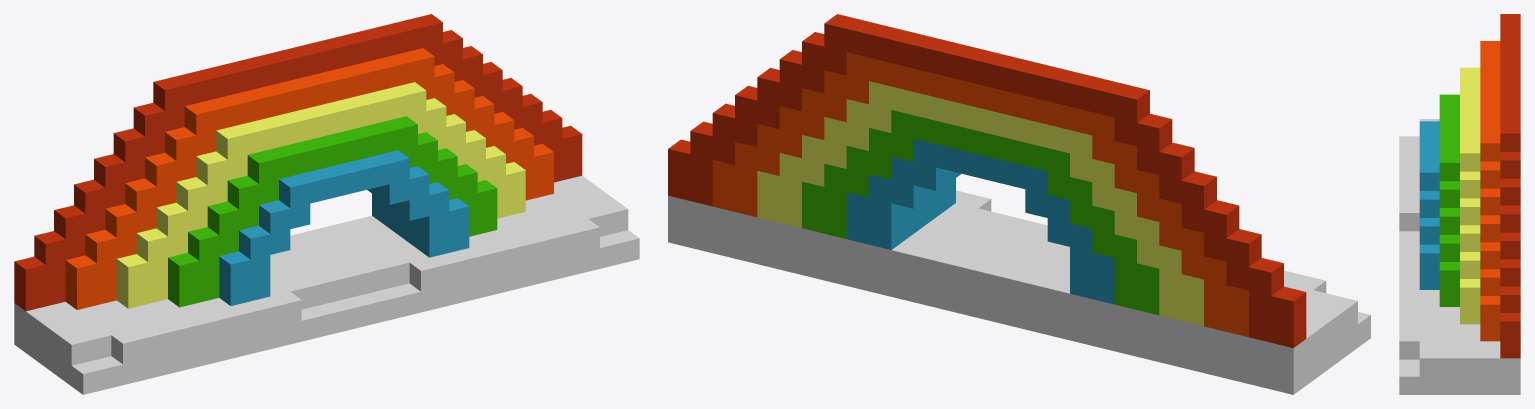
The picture shows the model from 3 angles, left to right: view 1: azimuth 30°, elevation 25°; view 2: azimuth 150°, elevation 25°; view 3: azimuth 270°, elevation 25°; orthographic projection. The views are drawn at different scales.
Parts seen in each view (by area): view 1: Null_9, Null_10, Null_4, Null_3, Null_7, Null_6, Null_5, Null_2, Null_1, Null_8, Null; view 2: Null_9, Null_10, Null_4, Null_8, Null_7, Null_6, Null_5, Null, Null_3, Null_2, Null_1; view 3: Null_9, Null_4, Null_3, Null_10, Null_2, Null_1, Null, Null_5, Null_7, Null_6, Null_8.
Boxes of the visible parts, x1,y1,x2,y2 form: Null_9: (14,175,628,365); Null_10: (14,230,639,394); Null_4: (74,78,522,213); Null_3: (94,62,502,187); Null_7: (14,125,582,290); Null_6: (34,109,562,264); Null_5: (54,94,542,239); Null_2: (113,46,482,162); Null_1: (133,30,462,136); Null_8: (14,155,582,311); Null: (153,14,442,110); Null_9: (668,190,1357,371); Null_10: (668,219,1370,394); Null_4: (735,85,1239,238); Null_8: (668,172,1306,348); Null_7: (668,139,1306,324); Null_6: (690,121,1283,295); Null_5: (712,103,1261,266); Null: (824,14,1149,122); Null_3: (757,68,1216,209); Null_2: (779,50,1194,180); Null_1: (802,32,1172,151); Null_9: (1399,119,1520,376); Null_4: (1419,121,1520,259); Null_3: (1439,94,1520,232); Null_10: (1399,231,1520,394); Null_2: (1460,67,1520,205); Null_1: (1480,41,1520,178); Null: (1500,14,1520,151); Null_5: (1419,191,1520,286); Null_7: (1419,244,1520,339); Null_6: (1419,218,1520,312); Null_8: (1419,271,1520,358).
Bounding box in the file's own units: 986 × 387 × 211.
